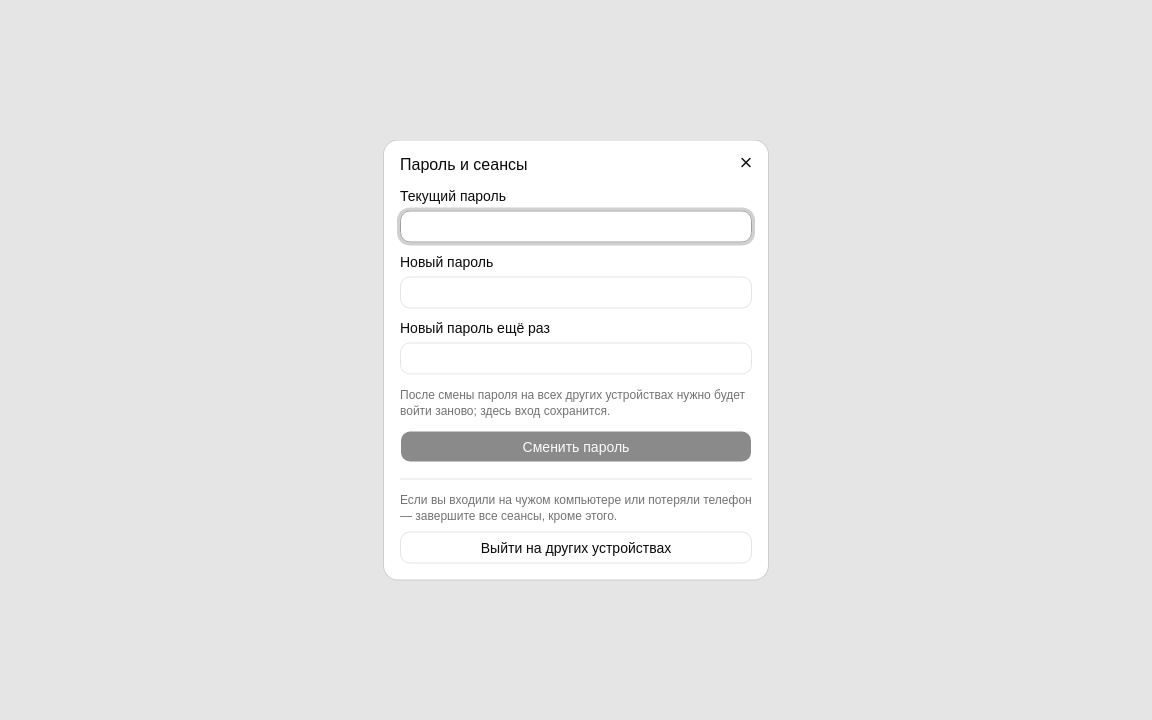
Test: PasswordDialog › signs out everywhere else
Click the button "Выйти на других устройствах" at (576, 548), box left=400, top=532, right=752, bottom=564
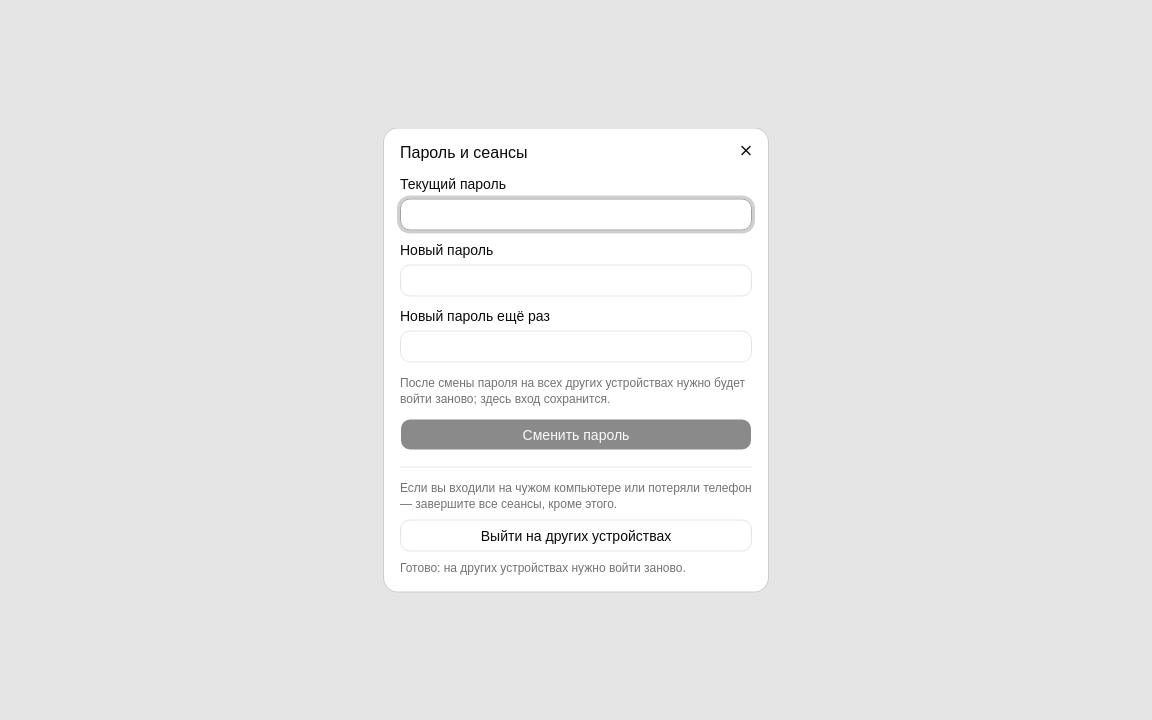
expect the text "Готово: на других устройствах нужно войти заново." is shown: met, box left=400, top=560, right=686, bottom=574
